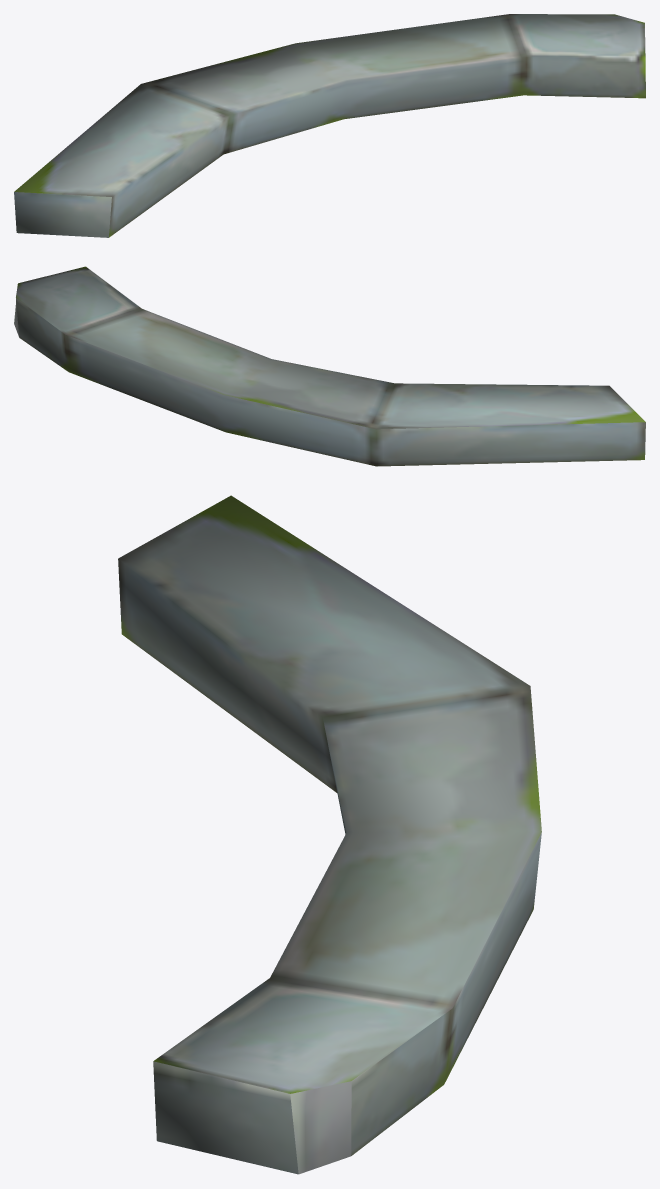
File: Map_06_brick08.FBX
3 renders of one model, top to bottom at view 1: azimuth 30°, elevation 25°; view 2: azimuth 150°, elevation 25°; view 3: azimuth 270°, elevation 25°, orthographic. The views are drawn at different scales.
Parts seen in each view (by area): view 1: Map_06_brick08; view 2: Map_06_brick08; view 3: Map_06_brick08.
Part boxes in pixels (x1=…): Map_06_brick08: x1=14, y1=14, x2=645, y2=237; Map_06_brick08: x1=14, y1=266, x2=645, y2=466; Map_06_brick08: x1=118, y1=495, x2=541, y2=1174.
Size of the model in its own units: 481 by 144 by 29.44.
